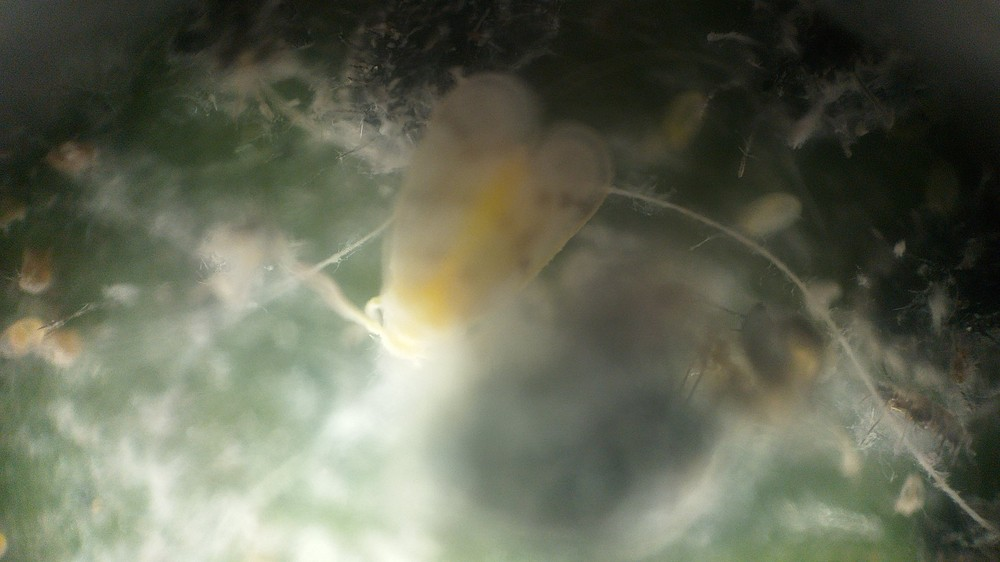Mosca Blanca: (308, 72, 630, 406)
